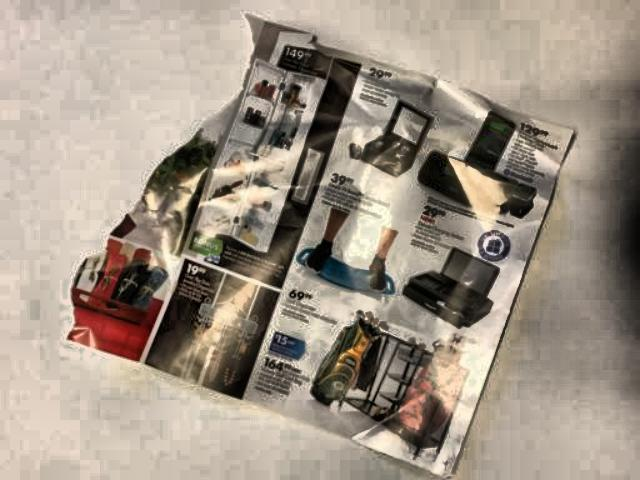Paper: (56, 9, 576, 480)
